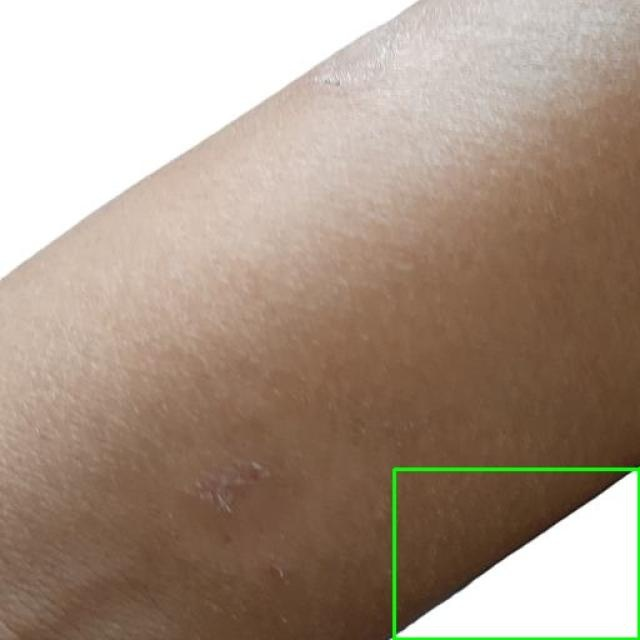Tinea Corporis: (394, 469, 639, 639)
